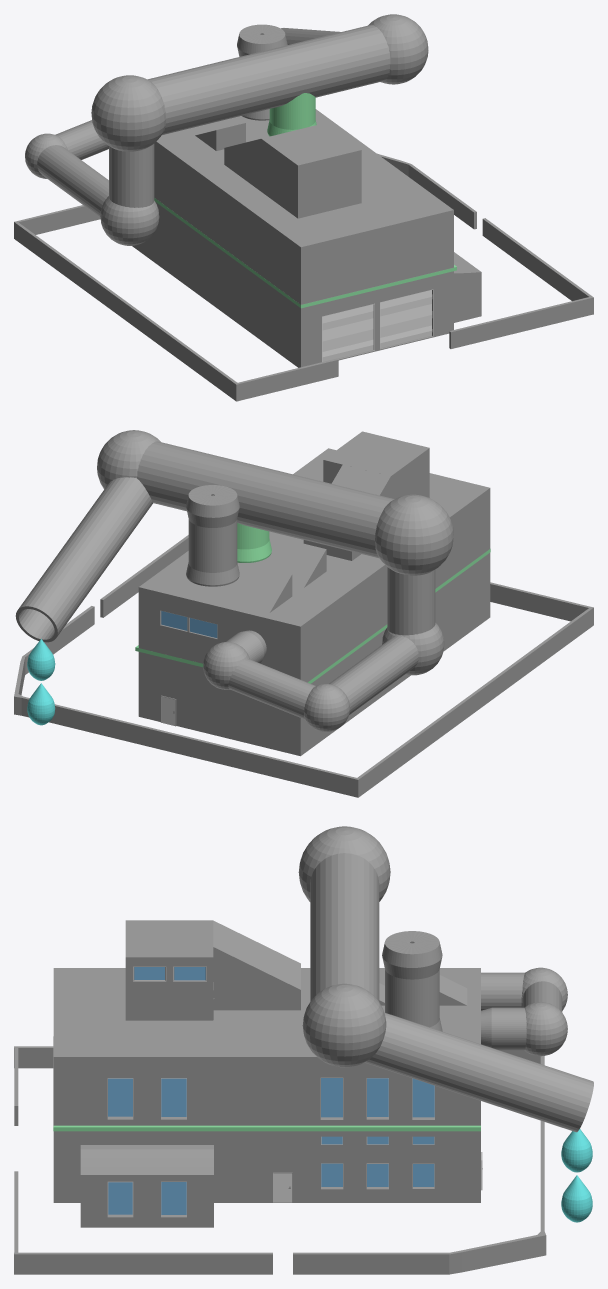
Rendered from Factory_eco_model.fbx.
3 renders of one model, top to bottom at view 1: azimuth 30°, elevation 25°; view 2: azimuth 150°, elevation 25°; view 3: azimuth 270°, elevation 25°, orthographic. The views are drawn at different scales.
Parts seen in each view (by area): view 1: Factory; view 2: Factory; view 3: Factory.
Part boxes in pixels (x1,y1,x2,y2): Factory: [14, 14, 593, 401]; Factory: [14, 430, 593, 797]; Factory: [14, 826, 593, 1274].
Size of the model in its own units: 603 by 346 by 708.
